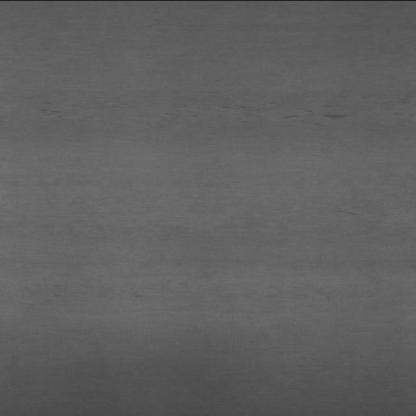silk_spot: (240, 84, 372, 138)
